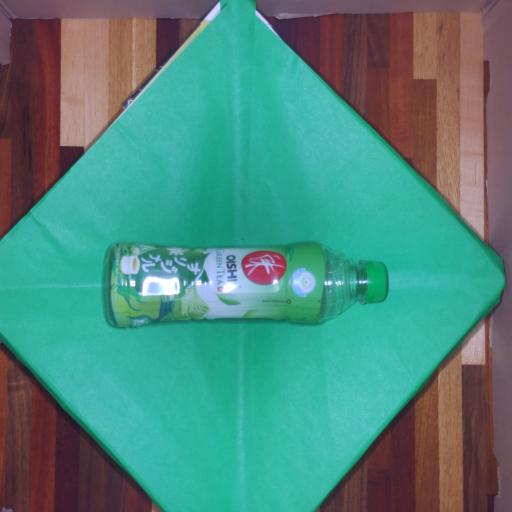bottle: (105, 240, 390, 329)
